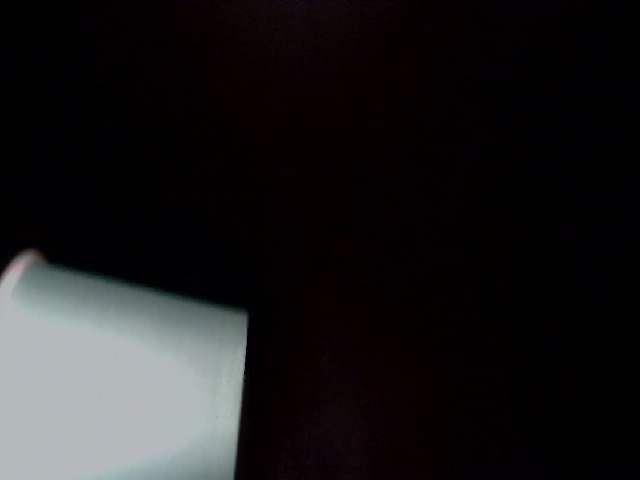CYLJ: (564, 273, 640, 376)
